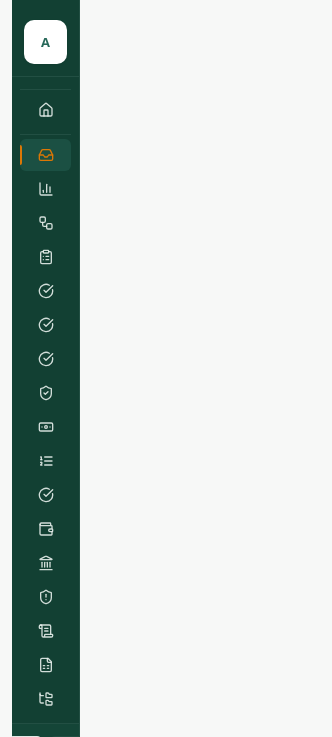
it: sidebar colapsada (UX-03 fatia 3.6) › item-pai com filhos é um botão que abre flyout com os filhos — não navega sozinho
The width and height of the screenshot is (332, 737).
Click the button named "cadastros" at (46, 699), box [20,683,71,715]
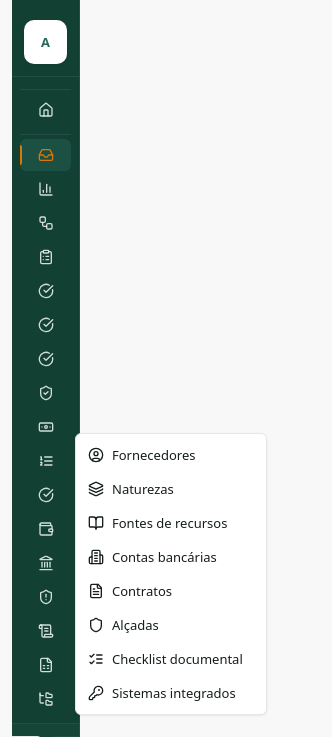
Result: the element that starts with "Fornecedores" is shown at [75,433,267,715]
